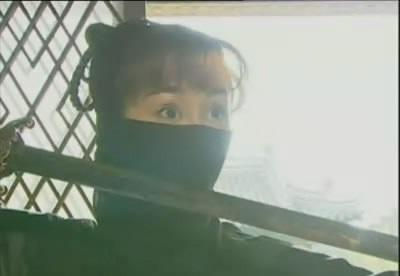OK: (135, 82, 232, 189)
